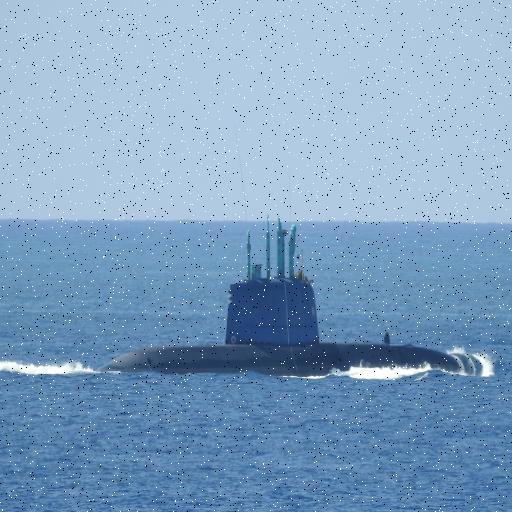submarine: (91, 211, 509, 372)
